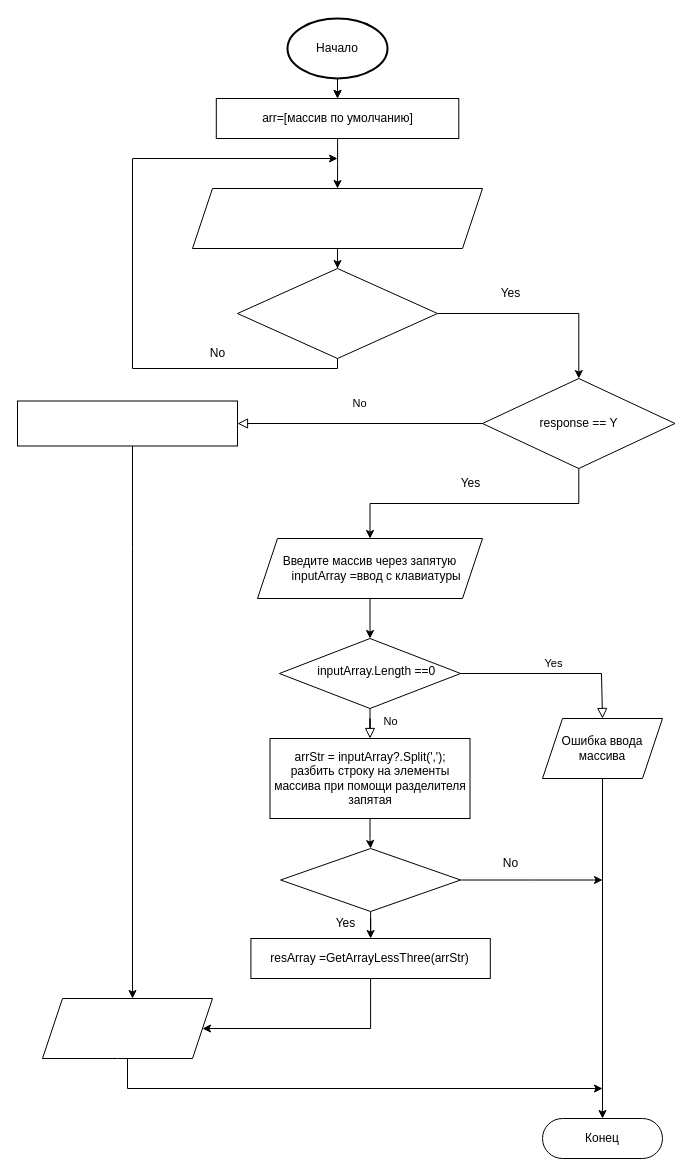
Some shapes in this 693 by 1176 pixel diagram are drawn without their labels. Here are the shapes that lost their labels. From the top down, the centre of each, then its label:
At (x=337, y=218): "Вввести массив с клавиатуры? [y/n] response = Ввод буквы".
At (x=337, y=313): "response != Y && response != N".
At (x=127, y=423): "resArray=GetArrayLessThree(arr)".
At (x=370, y=880): "arrStr?.Length > 0".
At (x=127, y=1028): "Вывод массива PrintArray(resArray)".
